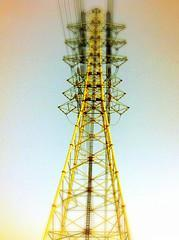power_tower: (44, 4, 136, 240)
